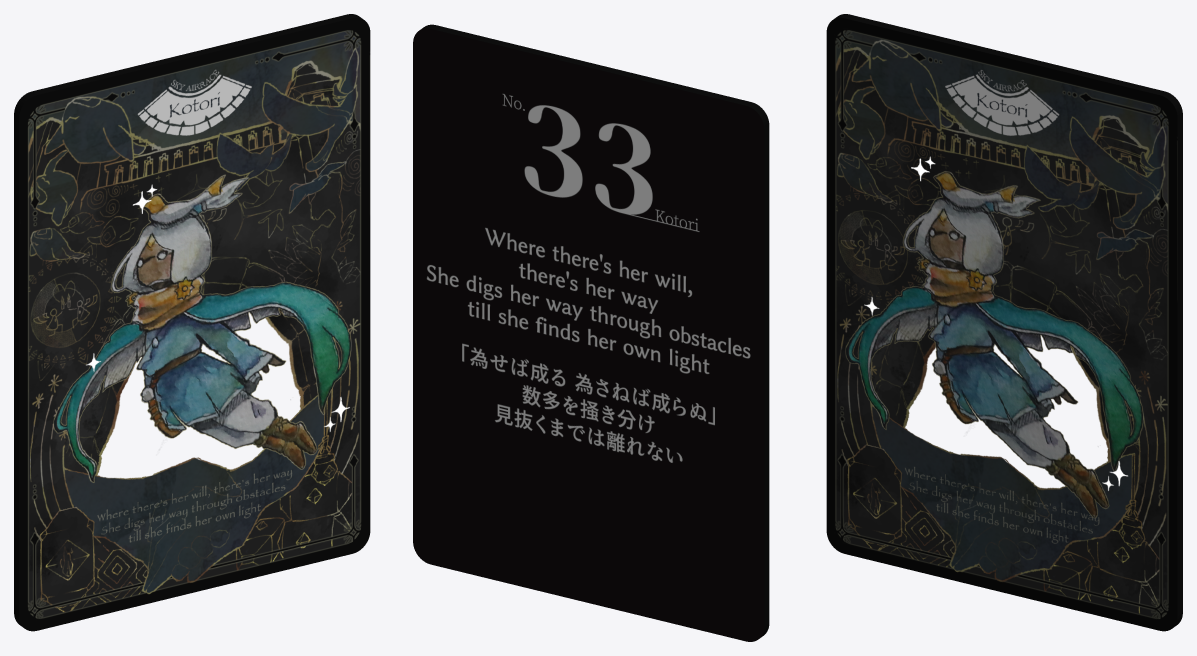
The model's file is 33_Kotori.glb.
3 views of the same model, side by side, from view 1: azimuth 30°, elevation 25°; view 2: azimuth 150°, elevation 25°; view 3: azimuth 330°, elevation 25° (orthographic).
Parts seen in each view (by area): view 1: きらきら; view 2: きらきら; view 3: きらきら.
Part boxes in pixels (left/top/right/bottom): きらきら: left=14, top=14, right=370, bottom=631; きらきら: left=413, top=24, right=769, bottom=641; きらきら: left=826, top=14, right=1182, bottom=631.
Bounding box in the file's own units: 0.236 × 0.344 × 0.023.
5 materials, 4 textured.
